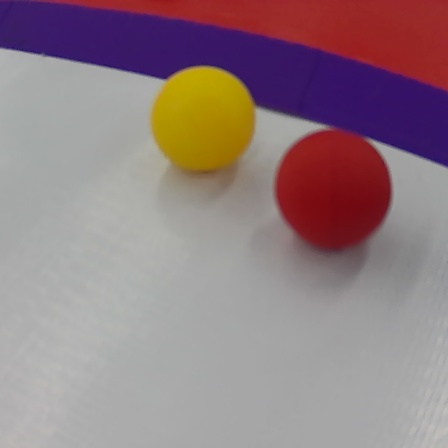red: (277, 124, 393, 255)
red_aim: (0, 0, 446, 180)
yellow: (146, 60, 257, 182)
